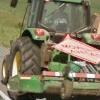Tractor: (12, 9, 100, 100)
